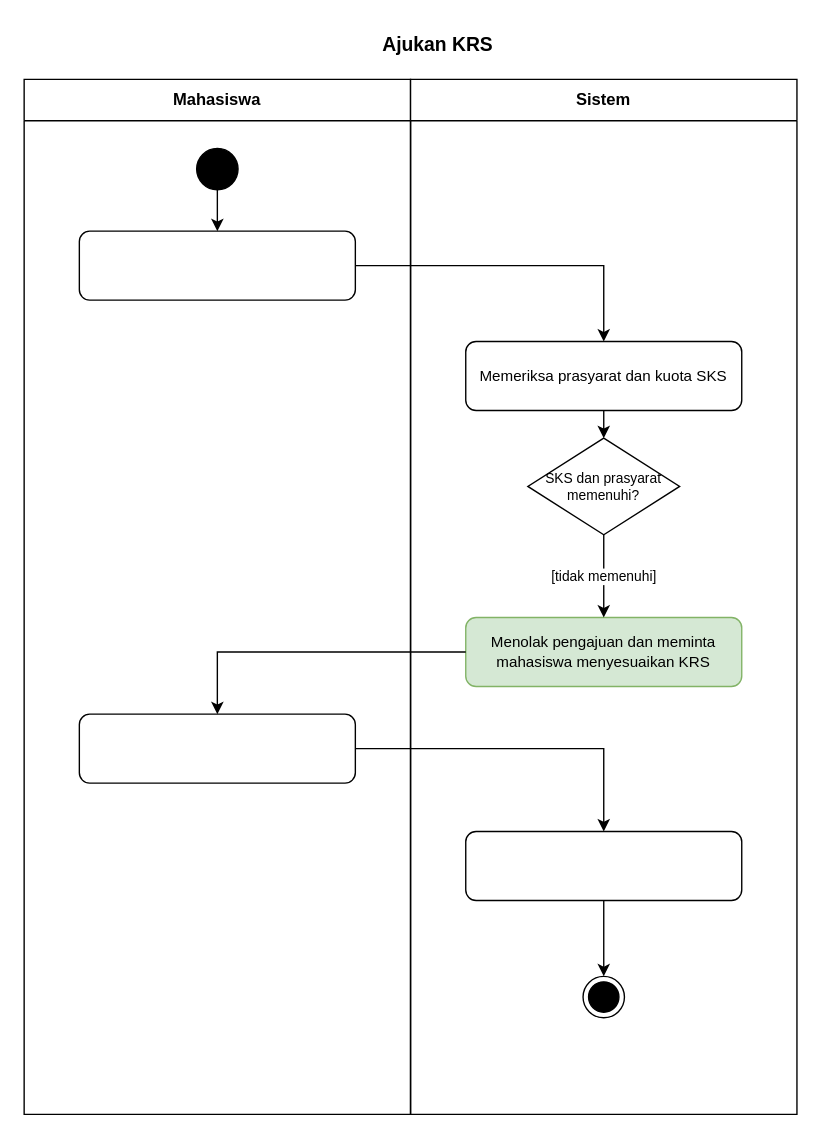
Some shapes in this 821 by 1139 pixel diagram are drawn without their labels. Each missing label, with the centre of its shape:
Memilih mata kuliah yang akan diambil: (216,265)
Mengirimkan draf pengajuan KRS: (216,748)
Menyimpan data pengajuan KRS: (603,865)
